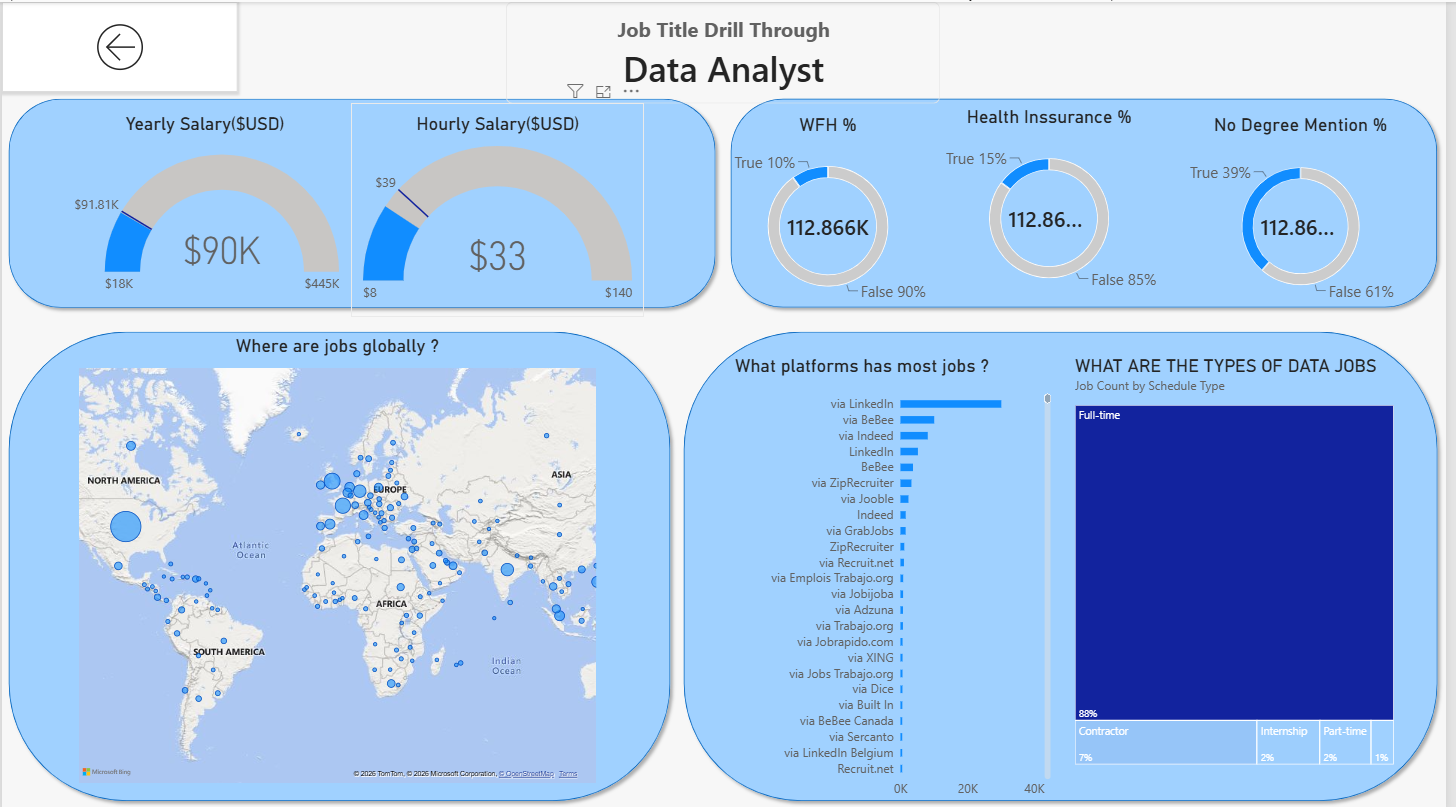

The dashboard page shown, as its layout file describes it:
{"tool":"powerbi","page":{"name":"job title drill  through","canvas":[1920,1080],"ordinal":1},"visuals":[{"type":"group","id":"g1","title":"background","box":[0,119.7,1918.2,952.1],"z":0},{"type":"cardVisual","fields":{"Data":["Min(job_postings_flat.job_title_short)1"]},"box":[670,0,578,135.2],"z":1000},{"type":"actionButton","box":[0,0,313.3,119.7],"z":2000},{"type":"gauge","title":"Yearly Salary($USD)","fields":{"Y":["Median(job_postings_flat.salary_year_avg)"],"MinValue":["Min(job_postings_flat.salary_year_avg)1"],"MaxValue":["Max(job_postings_flat.salary_year_avg)2"],"TargetValue":["Avg(job_postings_flat.salary_year_avg)3"]},"box":[74.5,134.6,389.9,284.1],"z":3000},{"type":"gauge","title":"Hourly Salary($USD)","fields":{"Y":["Median(job_postings_flat.salary_hour_avg)"],"MaxValue":["Max(job_postings_flat.salary_hour_avg)"],"TargetValue":["Avg(job_postings_flat.salary_hour_avg)"],"MinValue":["Min(job_postings_flat.salary_hour_avg)"]},"box":[463.8,134.6,389.9,284.1],"z":4000},{"type":"donutChart","title":"WFH %","fields":{"Category":["job_postings_flat.job_work_from_home"],"Y":["CountNonNull(job_postings_flat.job_work_from_home)"]},"box":[897.5,135.5,401.6,284.1],"z":5000},{"type":"donutChart","title":"No Degree Mention %","fields":{"Category":["job_postings_flat.job_no_degree_mention"],"Y":["CountNonNull(job_postings_flat.job_work_from_home)"]},"box":[1550.4,135.5,352.7,284.1],"z":6000},{"type":"donutChart","title":"Health Inssurance %","fields":{"Category":["job_postings_flat.job_health_insurance"],"Y":["CountNonNull(job_postings_flat.job_work_from_home)"]},"box":[1200.2,124.9,386,284.1],"z":7000},{"type":"map","title":"Where are jobs globally ?","fields":{"Category":["job_postings_flat.job_country"],"Size":["CountNonNull(job_postings_flat.job_title_short)"]},"box":[86.2,429.4,719.8,624.7],"z":8000},{"type":"treemap","title":"WHAT ARE  THE  TYPES OF DATA JOBS","fields":{"Values":["CountNonNull(job_postings_flat.job_schedule_type)"],"Group":["job_postings_flat.job_schedule_type"]},"box":[1411.4,455.8,455.8,573.7],"z":9000},{"type":"barChart","title":"What platforms has most jobs ?","fields":{"Category":["job_postings_flat.job_via"],"Y":["CountNonNull(job_postings_flat.job_via)"]},"box":[958.8,456.6,451.8,622.4],"z":10000},{"type":"shape","box":[0,119.7,957.9,296],"z":12250,"group":"g1"},{"type":"shape","box":[0,429.7,897.9,642.1],"z":12375,"group":"g1"},{"type":"shape","box":[960.9,120.3,957.4,295.7],"z":12500,"group":"g1"},{"type":"shape","box":[897.9,429.7,1020.3,642.1],"z":13000,"group":"g1"}]}

Visuals, with their boxes on the page's 1920x1080 design canvas (x1, y1, x2, y2). These are canvas units, not pixel positions in the 1456x807 screenshot, which may show the page scaled, cropped or inside an application window:
"background" group: x1=0 y1=120 x2=1918 y2=1072
cardVisual - Min(job_postings_flat.job_title_short)1: x1=670 y1=0 x2=1248 y2=135
actionButton: x1=0 y1=0 x2=313 y2=120
"Yearly Salary($USD)" gauge: x1=74 y1=135 x2=464 y2=419
"Hourly Salary($USD)" gauge: x1=464 y1=135 x2=854 y2=419
"WFH %" donutChart: x1=898 y1=136 x2=1299 y2=420
"No Degree Mention %" donutChart: x1=1550 y1=136 x2=1903 y2=420
"Health Inssurance %" donutChart: x1=1200 y1=125 x2=1586 y2=409
"Where are jobs globally ?" map: x1=86 y1=429 x2=806 y2=1054
"WHAT ARE  THE  TYPES OF DATA JOBS" treemap: x1=1411 y1=456 x2=1867 y2=1030
"What platforms has most jobs ?" barChart: x1=959 y1=457 x2=1411 y2=1079
shape: x1=0 y1=120 x2=958 y2=416
shape: x1=0 y1=430 x2=898 y2=1072
shape: x1=961 y1=120 x2=1918 y2=416
shape: x1=898 y1=430 x2=1918 y2=1072
